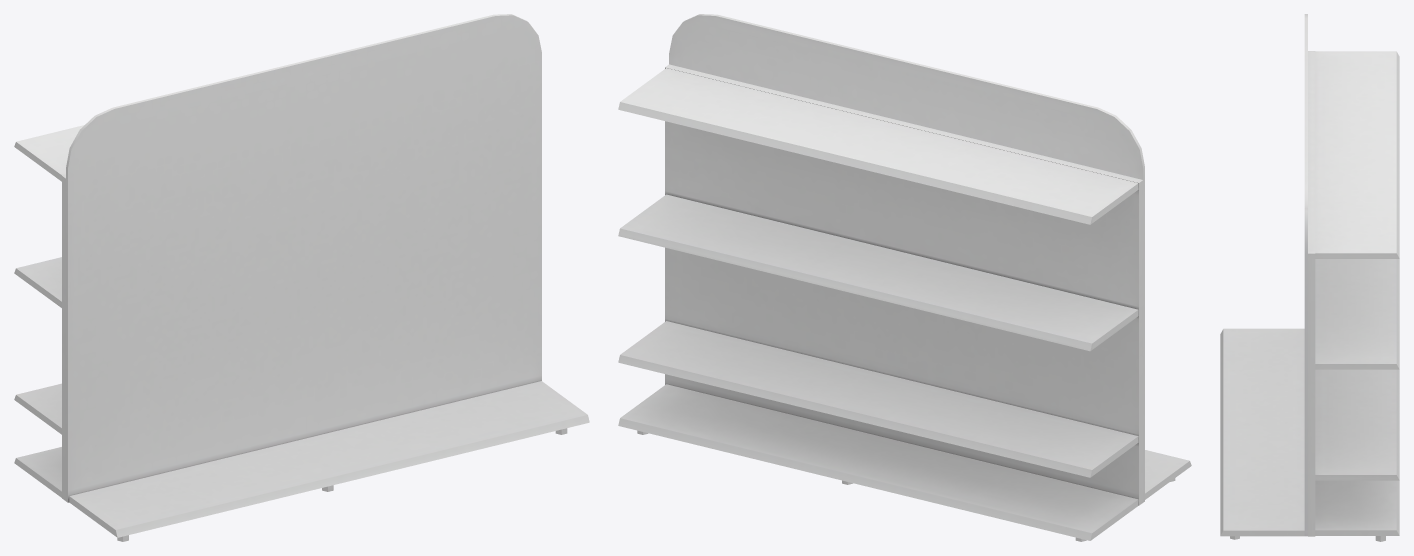
The model's file is GroceriesShelf_001.glb.
3 renders of one model, left to right at view 1: azimuth 30°, elevation 25°; view 2: azimuth 150°, elevation 25°; view 3: azimuth 270°, elevation 25°, orthographic. The views are drawn at different scales.
Visible parts, largest first — view 1: GroceriesShelves.001_baked; view 2: GroceriesShelves.001_baked; view 3: GroceriesShelves.001_baked.
Part boxes in pixels (x1,y1,x2,y2): GroceriesShelves.001_baked: [14, 14, 589, 541]; GroceriesShelves.001_baked: [618, 14, 1191, 541]; GroceriesShelves.001_baked: [1220, 14, 1399, 541].
Size of the model in its own units: 3.01 by 2.39 by 1.13.
Materials: 1 (1 with a texture image).
